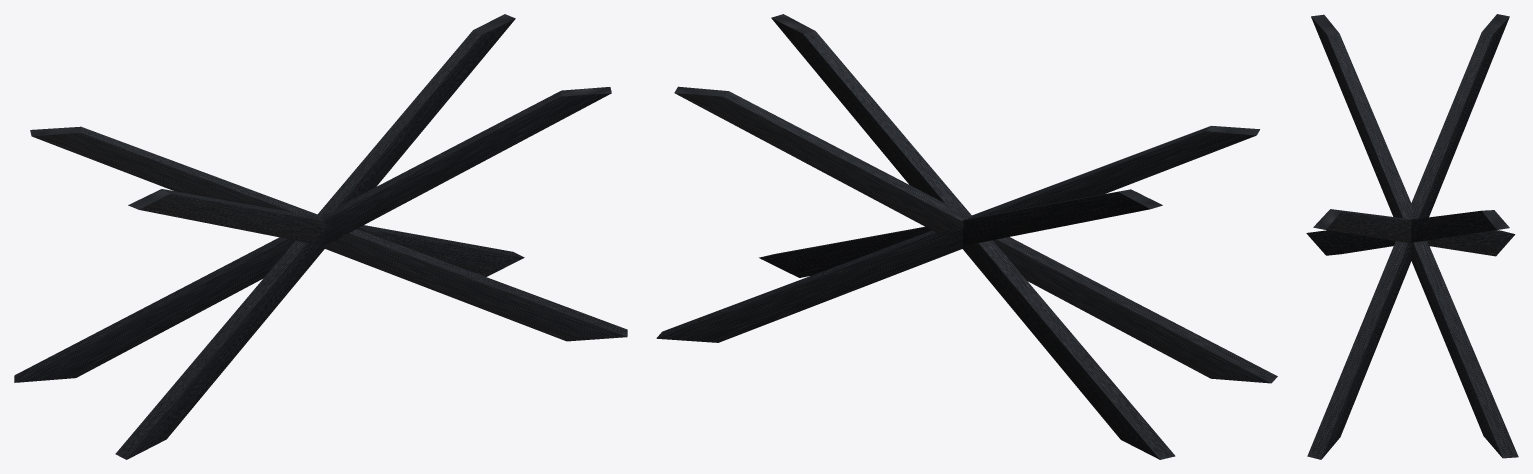
File: table1.gltf
The picture shows the model from 3 angles, left to right: view 1: azimuth 30°, elevation 25°; view 2: azimuth 150°, elevation 25°; view 3: azimuth 270°, elevation 25°; orthographic projection. The views are drawn at different scales.
Visible parts, largest first — view 1: Cube.001, Cube.003, Cube.004, Cube.002; view 2: Cube.004, Cube.001, Cube.002, Cube.003; view 3: Cube.002, Cube.003, Cube.001, Cube.004.
Part boxes in pixels (left/top/right/bottom): Cube.001: left=14, top=87, right=611, bottom=382; Cube.003: left=30, top=126, right=627, bottom=341; Cube.004: left=115, top=14, right=515, bottom=459; Cube.002: left=128, top=189, right=524, bottom=276; Cube.004: left=674, top=86, right=1277, bottom=383; Cube.001: left=771, top=14, right=1175, bottom=459; Cube.002: left=656, top=125, right=1259, bottom=342; Cube.003: left=759, top=189, right=1162, bottom=277; Cube.002: left=1311, top=14, right=1518, bottom=458; Cube.003: left=1307, top=14, right=1509, bottom=459; Cube.001: left=1313, top=209, right=1515, bottom=256; Cube.004: left=1306, top=210, right=1509, bottom=255.
Size of the model in its own units: 1.64 by 0.745 by 0.6431.
4 materials, 4 textured.
